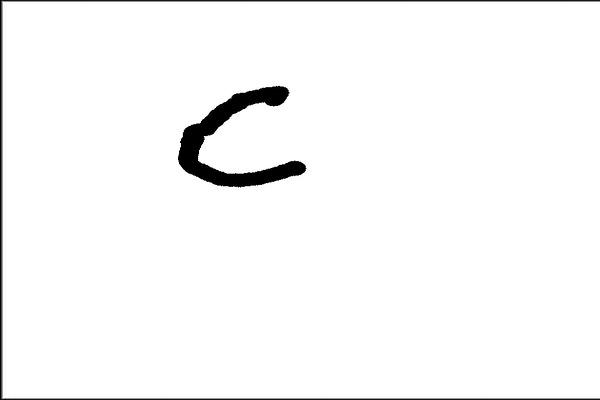C: (173, 75, 308, 192)
